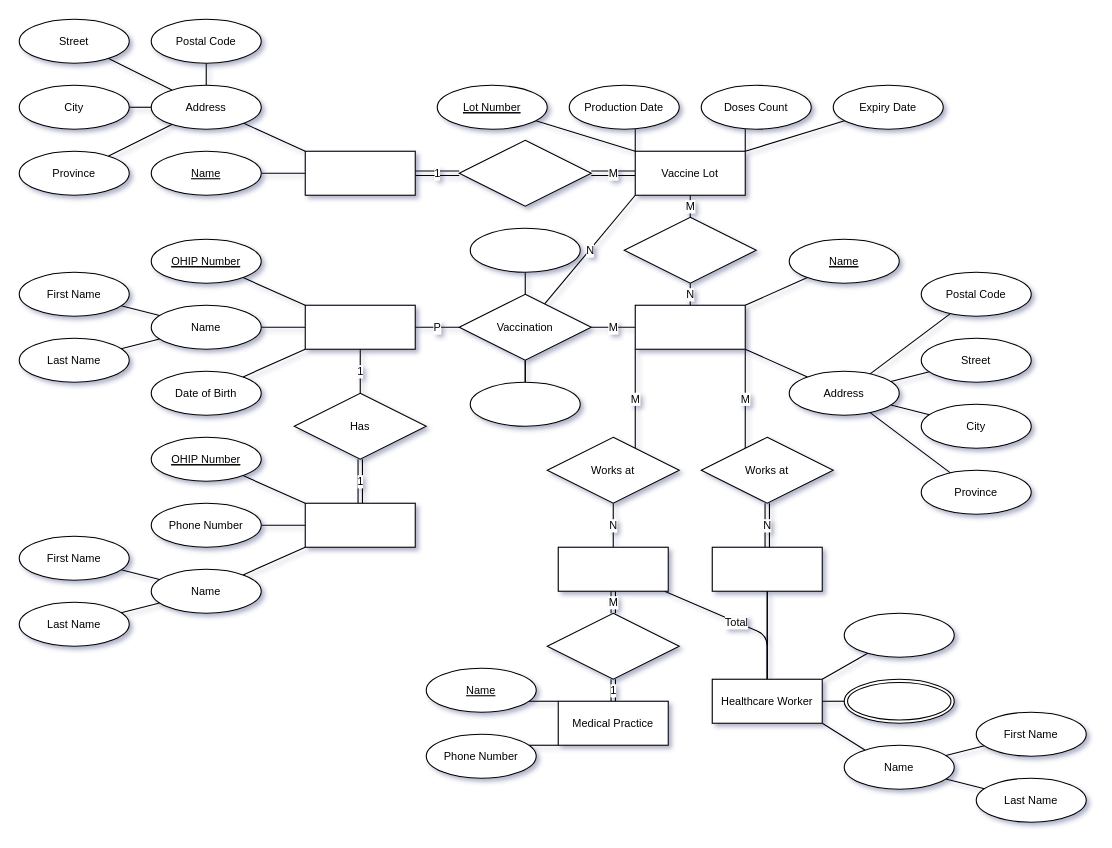
Some shapes in this 1112 by 848 pixel diagram are drawn without their labels. Here are the shapes that lost their labels. From the top down, the centre of each, then its label:
(359,172): Company
(524,172): Produces
(524,249): Date
(689,249): Ships to
(359,326): Patient
(689,326): Vaccination Clinic
(524,403): Time
(359,524): Spouse
(612,568): Doctor
(766,568): Nurse
(612,645): Works with
(898,634): ID
(898,700): Credentials
